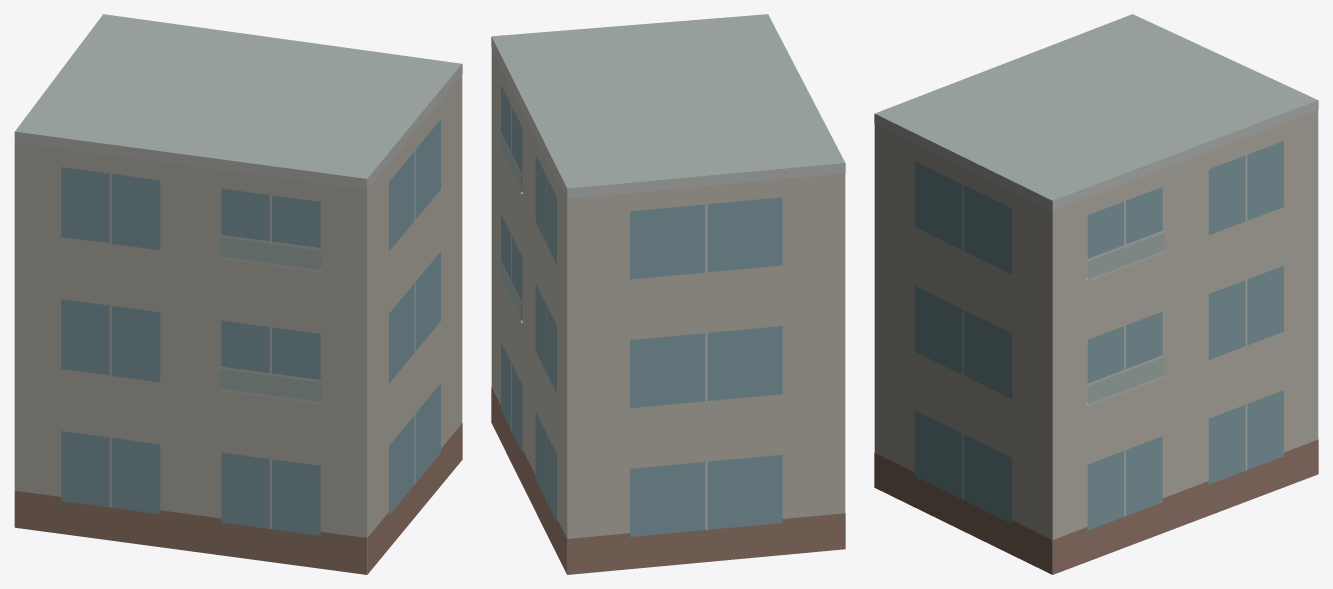
File: survey-upis-32724453.glb
The picture shows the model from 3 angles, left to right: view 1: azimuth 30°, elevation 25°; view 2: azimuth 150°, elevation 25°; view 3: azimuth 270°, elevation 25°; orthographic projection. The views are drawn at different scales.
Parts seen in each view (by area): view 1: survey-upis-32724453.tmp; view 2: survey-upis-32724453.tmp; view 3: survey-upis-32724453.tmp.
Part boxes in pixels (x1,y1,x2,y2): survey-upis-32724453.tmp: (14,14,462,574); survey-upis-32724453.tmp: (491,14,845,574); survey-upis-32724453.tmp: (874,14,1318,574).
Bounding box in the file's own units: 9.81 × 9.15 × 9.85.
